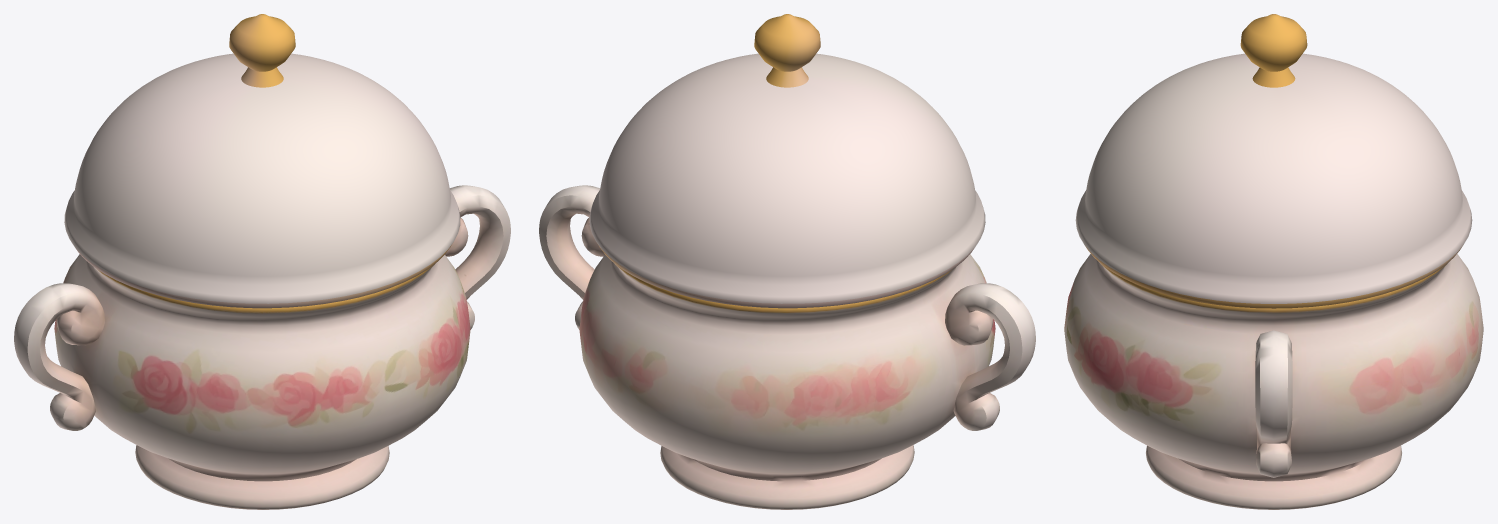
Rendered from sugar_bowl_lidded_v2.glb.
3 renders of one model, left to right at view 1: azimuth 30°, elevation 25°; view 2: azimuth 150°, elevation 25°; view 3: azimuth 270°, elevation 25°, orthographic.
Parts seen in each view (by area): view 1: sugar_bowl; view 2: sugar_bowl; view 3: sugar_bowl.
Part boxes in pixels (bbox=[...]): sugar_bowl: bbox=[14, 14, 510, 509]; sugar_bowl: bbox=[539, 14, 1035, 509]; sugar_bowl: bbox=[1064, 14, 1483, 509].
Size of the model in its own units: 2.96 by 2.57 by 2.2.
Materials: 1 (1 with a texture image).
